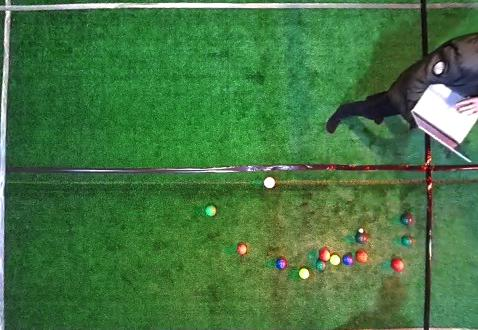blue: (276, 258, 287, 270), (343, 255, 353, 265)
green: (400, 213, 413, 225), (355, 233, 367, 244), (205, 205, 216, 216), (402, 236, 413, 247), (316, 260, 327, 271)
red: (391, 259, 404, 272), (356, 250, 368, 263), (319, 248, 331, 261), (264, 176, 275, 188), (237, 244, 247, 255)
vline: (424, 137, 477, 329), (0, 0, 13, 329), (420, 0, 477, 57)
white: (358, 228, 364, 233)
yellow: (299, 268, 310, 279), (330, 255, 340, 265)
